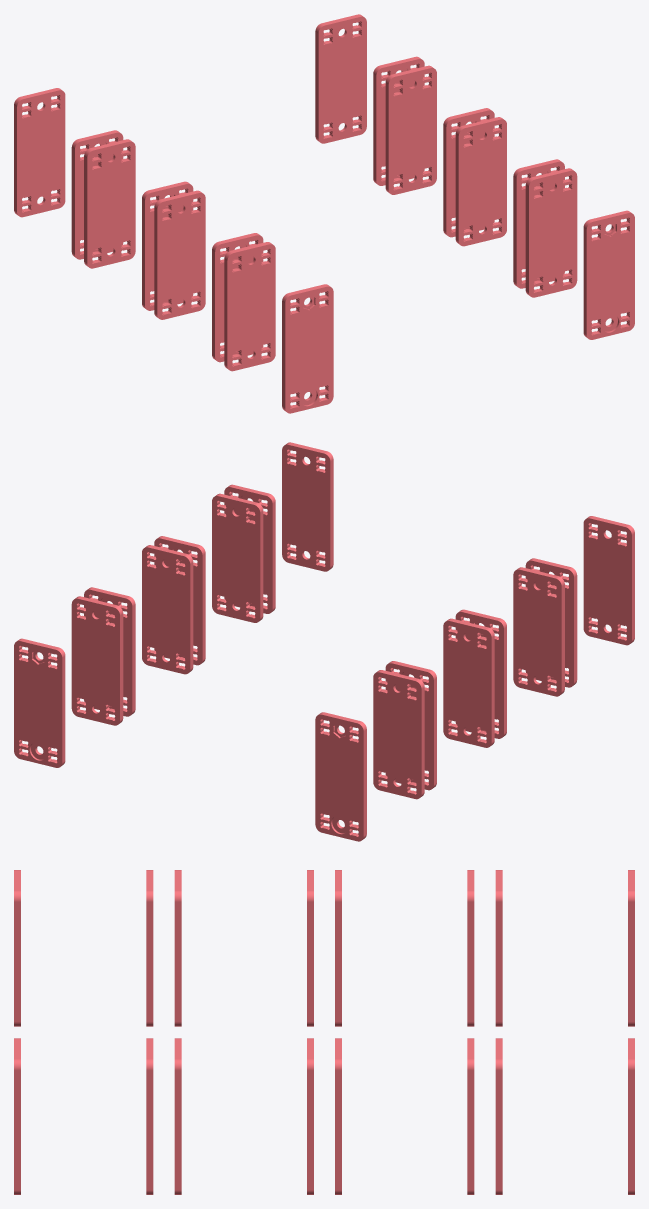
Rendered from BATTERY CRATE STACK V2__BATTERY CRATE L3__BATTERY MODULE V2 CLAMPS__SPINE ASM__SPINE SIDE SIMPLE.glb.
3 renders of one model, top to bottom at view 1: azimuth 30°, elevation 25°; view 2: azimuth 150°, elevation 25°; view 3: azimuth 270°, elevation 25°, orthographic. The views are drawn at different scales.
Parts seen in each view (by area): view 1: SPINE SIDE SIMPLE 3, SPINE SIDE SIMPLE 1, SPINE SIDE SIMPLE 2, SPINE SIDE SIMPLE 8, SPINE SIDE SIMPLE 14, SPINE SIDE SIMPLE 9, SPINE SIDE SIMPLE 4, SPINE SIDE SIMPLE 16, SPINE SIDE SIMPLE 11, SPINE SIDE SIMPLE 6, SPINE SIDE SIMPLE 13, SPINE SIDE SIMPLE 7 (+4 smaller); view 2: SPINE SIDE SIMPLE 13, SPINE SIDE SIMPLE 15, SPINE SIDE SIMPLE 4, SPINE SIDE SIMPLE 10, SPINE SIDE SIMPLE 16, SPINE SIDE SIMPLE 7, SPINE SIDE SIMPLE 2, SPINE SIDE SIMPLE 14, SPINE SIDE SIMPLE 5, SPINE SIDE SIMPLE 12, SPINE SIDE SIMPLE 3, SPINE SIDE SIMPLE 9 (+4 smaller); view 3: SPINE SIDE SIMPLE 1, SPINE SIDE SIMPLE 3, SPINE SIDE SIMPLE 5, SPINE SIDE SIMPLE 7, SPINE SIDE SIMPLE 9, SPINE SIDE SIMPLE 11, SPINE SIDE SIMPLE 13, SPINE SIDE SIMPLE 15, SPINE SIDE SIMPLE 2, SPINE SIDE SIMPLE 4, SPINE SIDE SIMPLE 6, SPINE SIDE SIMPLE 8 (+4 smaller).
Boxes of the visible parts, x1,y1,x2,y2 form: SPINE SIDE SIMPLE 3: [525, 168, 577, 297]; SPINE SIDE SIMPLE 1: [224, 242, 275, 371]; SPINE SIDE SIMPLE 2: [282, 284, 333, 413]; SPINE SIDE SIMPLE 8: [154, 190, 205, 319]; SPINE SIDE SIMPLE 14: [315, 14, 366, 143]; SPINE SIDE SIMPLE 9: [84, 139, 135, 268]; SPINE SIDE SIMPLE 4: [583, 210, 634, 339]; SPINE SIDE SIMPLE 16: [14, 88, 65, 217]; SPINE SIDE SIMPLE 11: [385, 65, 436, 194]; SPINE SIDE SIMPLE 6: [455, 117, 506, 246]; SPINE SIDE SIMPLE 13: [373, 56, 424, 185]; SPINE SIDE SIMPLE 7: [212, 233, 263, 362]; SPINE SIDE SIMPLE 13: [71, 596, 123, 725]; SPINE SIDE SIMPLE 15: [373, 670, 424, 799]; SPINE SIDE SIMPLE 4: [282, 442, 333, 571]; SPINE SIDE SIMPLE 10: [443, 618, 494, 747]; SPINE SIDE SIMPLE 16: [315, 712, 366, 841]; SPINE SIDE SIMPLE 7: [513, 567, 564, 696]; SPINE SIDE SIMPLE 2: [583, 516, 634, 645]; SPINE SIDE SIMPLE 14: [14, 638, 65, 767]; SPINE SIDE SIMPLE 5: [212, 493, 263, 622]; SPINE SIDE SIMPLE 12: [142, 545, 193, 674]; SPINE SIDE SIMPLE 3: [224, 484, 275, 613]; SPINE SIDE SIMPLE 9: [385, 661, 436, 790]; SPINE SIDE SIMPLE 1: [146, 870, 153, 1026]; SPINE SIDE SIMPLE 3: [146, 1038, 153, 1194]; SPINE SIDE SIMPLE 5: [174, 1038, 181, 1194]; SPINE SIDE SIMPLE 7: [174, 870, 181, 1026]; SPINE SIDE SIMPLE 9: [467, 870, 474, 1026]; SPINE SIDE SIMPLE 11: [467, 1038, 474, 1194]; SPINE SIDE SIMPLE 13: [495, 1038, 502, 1194]; SPINE SIDE SIMPLE 15: [495, 870, 502, 1026]; SPINE SIDE SIMPLE 2: [14, 870, 20, 1026]; SPINE SIDE SIMPLE 4: [14, 1038, 20, 1194]; SPINE SIDE SIMPLE 6: [307, 1038, 313, 1194]; SPINE SIDE SIMPLE 8: [307, 870, 313, 1026].
Size of the model in its own units: 0.4134 by 0.1333 by 0.5552.
